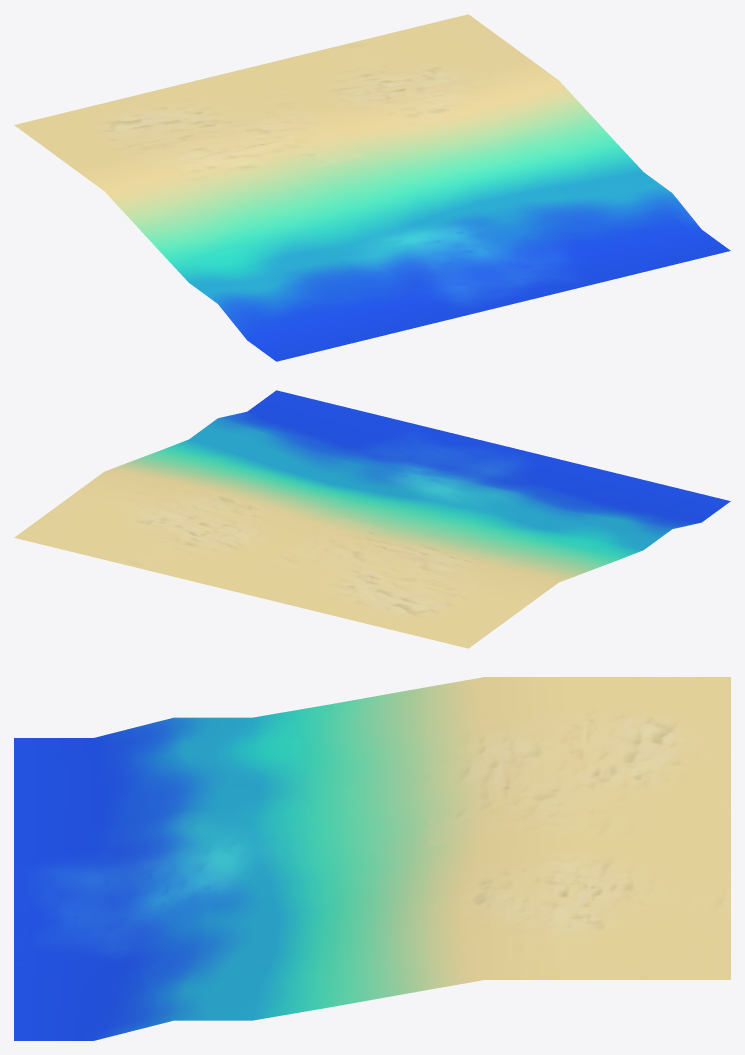
The model's file is land_beach00_b.fbx.
3 views of the same model, one above another, from view 1: azimuth 30°, elevation 25°; view 2: azimuth 150°, elevation 25°; view 3: azimuth 270°, elevation 25° (orthographic). The views are drawn at different scales.
Visible parts, largest first — view 1: land_beach00_b; view 2: land_beach00_b; view 3: land_beach00_b.
Boxes of the visible parts, x1,y1,x2,y2 form: land_beach00_b: (14, 14, 730, 361); land_beach00_b: (14, 390, 730, 648); land_beach00_b: (14, 677, 730, 1040).
Size of the model in its own units: 48 by 4.5 by 48.
